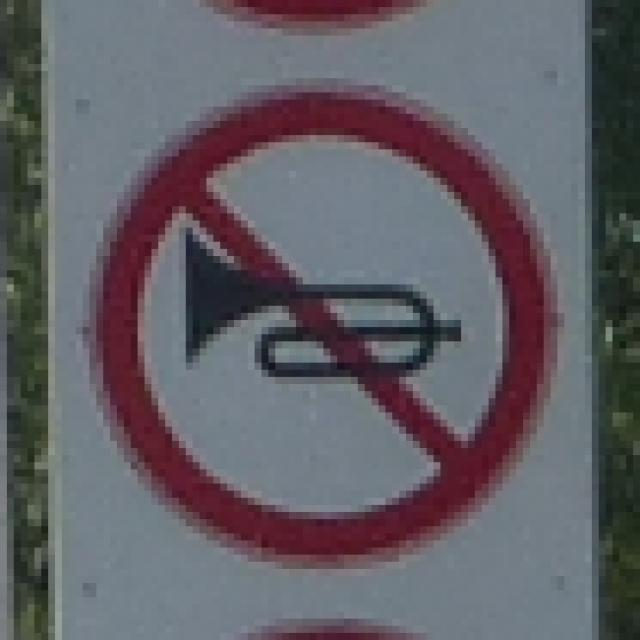No Horn: (84, 77, 569, 566)
